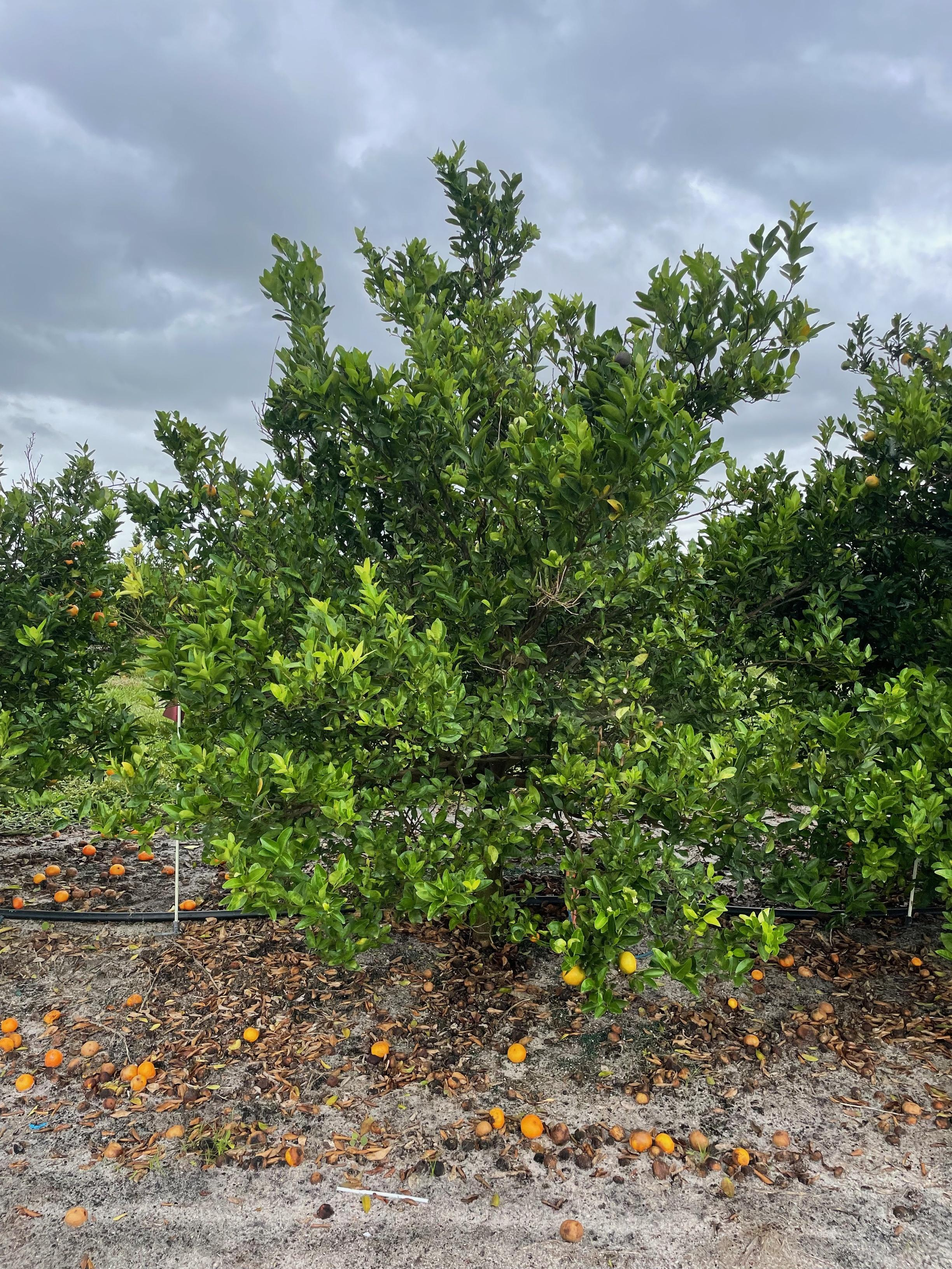fruit_on_ground: (560, 961, 587, 987), (615, 949, 638, 975), (612, 349, 634, 368), (919, 344, 936, 361), (200, 483, 217, 499), (864, 474, 881, 490), (900, 351, 914, 368), (152, 536, 169, 550), (104, 764, 119, 778), (65, 603, 79, 617), (70, 539, 85, 552), (88, 587, 103, 599), (92, 610, 105, 622), (863, 430, 876, 442), (107, 617, 119, 629), (840, 360, 851, 372)
fruit_on_tree: (557, 1217, 585, 1245), (519, 1113, 545, 1140), (62, 1204, 89, 1228), (548, 1120, 572, 1144), (628, 1129, 652, 1153), (651, 1158, 674, 1182), (686, 1128, 711, 1150), (506, 1041, 529, 1064), (728, 1146, 752, 1168), (654, 1132, 677, 1154), (284, 1144, 305, 1166), (368, 1038, 390, 1059), (771, 1129, 793, 1150), (13, 1071, 35, 1092), (79, 1038, 102, 1058), (486, 1105, 506, 1127), (43, 1047, 63, 1068), (165, 1122, 187, 1141), (900, 1100, 923, 1118), (795, 1021, 816, 1040), (138, 1059, 157, 1079), (119, 1062, 139, 1081), (242, 1024, 261, 1044), (816, 999, 837, 1017), (42, 1008, 62, 1026), (0, 1016, 18, 1035), (128, 1074, 148, 1091), (99, 1059, 119, 1076), (6, 1031, 24, 1049), (742, 1031, 761, 1048), (474, 1119, 493, 1136), (810, 1006, 828, 1023), (607, 1124, 625, 1141), (125, 992, 144, 1008), (525, 929, 543, 945), (777, 952, 795, 968), (0, 1035, 15, 1054), (100, 1093, 118, 1108), (796, 963, 813, 978), (44, 863, 61, 878), (52, 888, 69, 903), (71, 885, 87, 900), (63, 864, 79, 879), (108, 863, 126, 876), (177, 898, 196, 910), (907, 954, 923, 968), (749, 967, 765, 981), (137, 849, 154, 862), (726, 995, 740, 1010), (10, 895, 25, 909), (159, 863, 175, 876), (81, 844, 97, 857), (89, 884, 103, 897), (32, 873, 47, 885), (222, 869, 235, 881), (128, 827, 141, 837), (50, 829, 61, 839)
